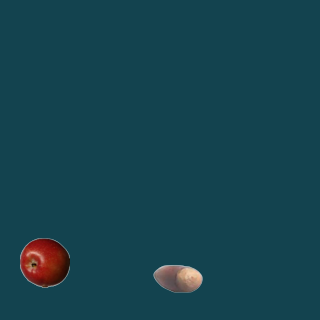Apple Braeburn: (19, 237, 69, 287)
Hazelnut: (152, 253, 202, 303)
